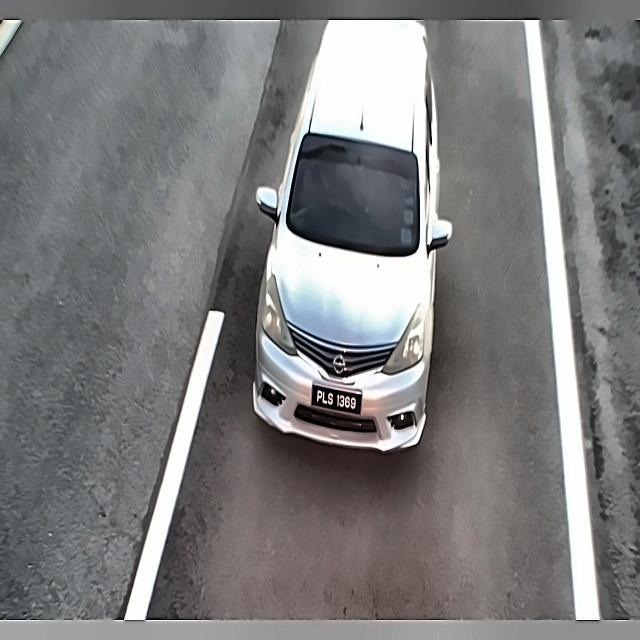car: (306, 373, 368, 424)
